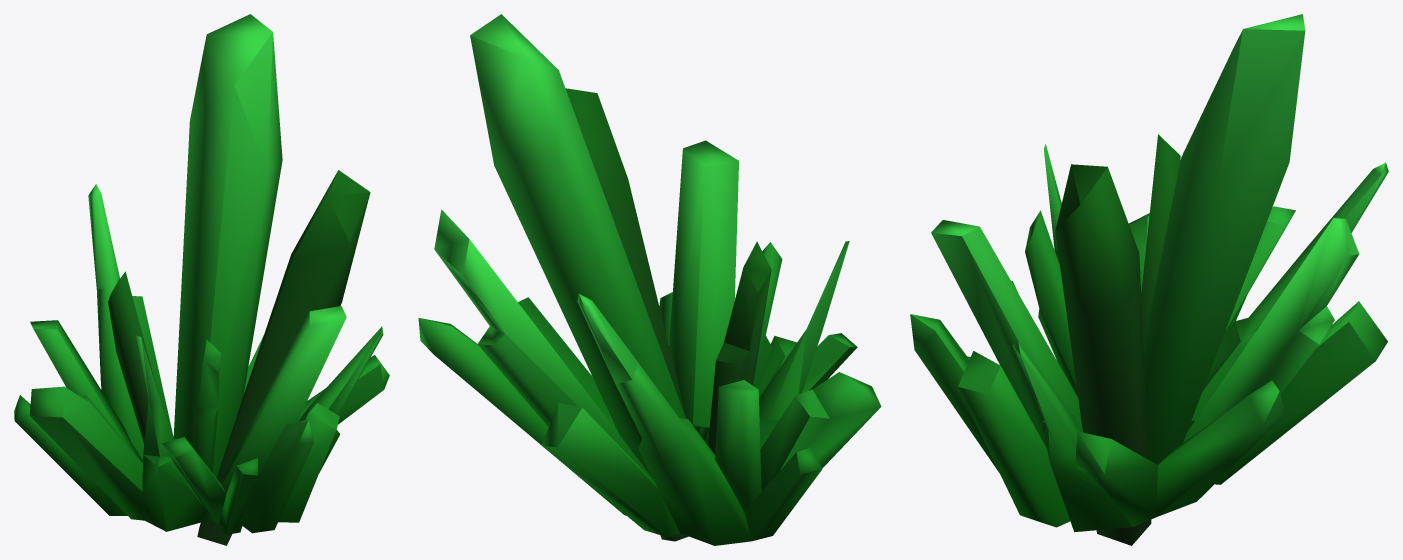
File: ZLP_Crystalk_C_4.FBX
3 views of the same model, side by side, from view 1: azimuth 30°, elevation 25°; view 2: azimuth 150°, elevation 25°; view 3: azimuth 270°, elevation 25° (orthographic). The views are drawn at different scales.
Parts seen in each view (by area): view 1: ZLP_Crystalk_C_4; view 2: ZLP_Crystalk_C_4; view 3: ZLP_Crystalk_C_4.
Part boxes in pixels (x1=…): ZLP_Crystalk_C_4: x1=14, y1=14, x2=389, y2=545; ZLP_Crystalk_C_4: x1=418, y1=14, x2=881, y2=545; ZLP_Crystalk_C_4: x1=910, y1=14, x2=1388, y2=545.
Size of the model in its own units: 286 by 359 by 271.
